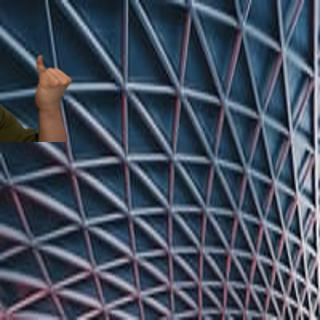FINE: (33, 54, 73, 115)
